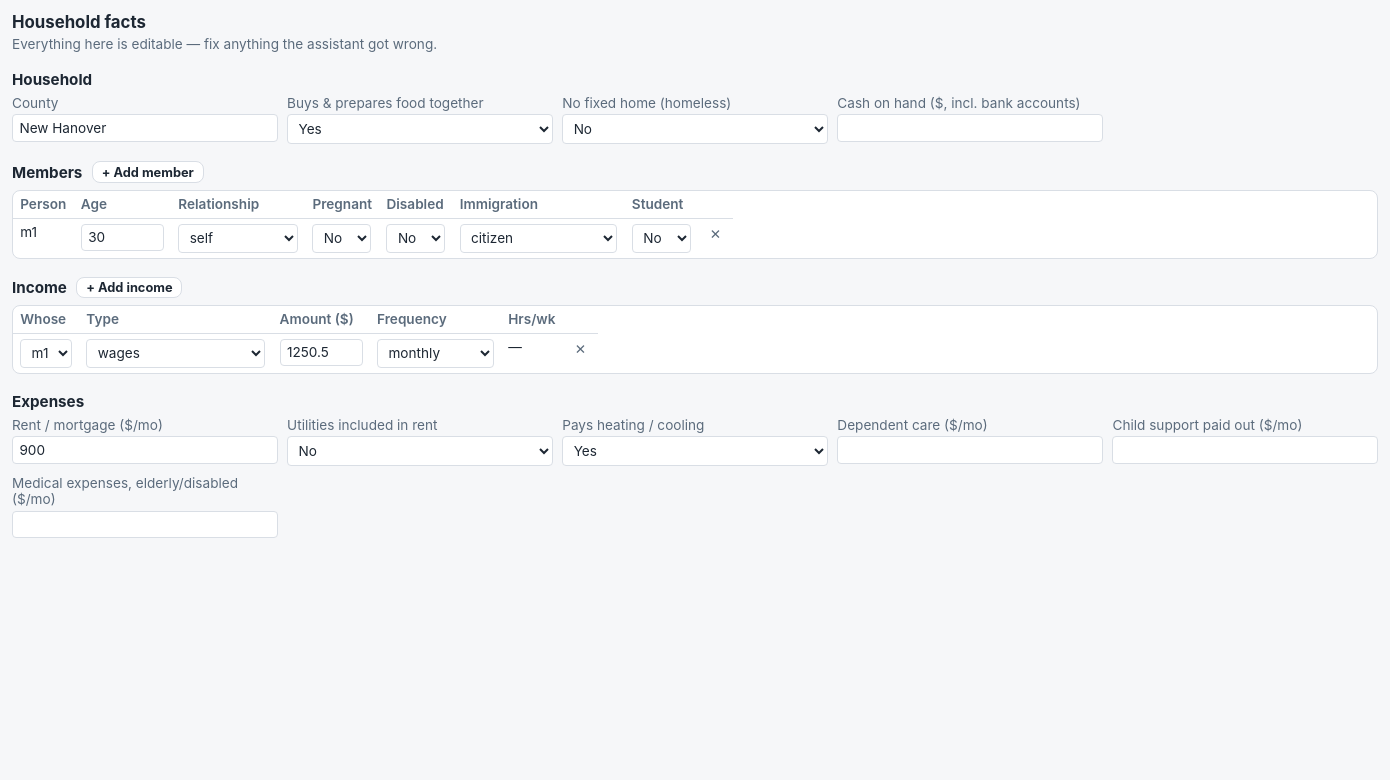
Test: FactsPanel › renders a 422 validation error inline at the offending field
The width and height of the screenshot is (1390, 780).
Step 1. Replace the text in the number field named "age of m1" with "999" → (122, 237), box [81, 224, 164, 251]
Wait 500 ms
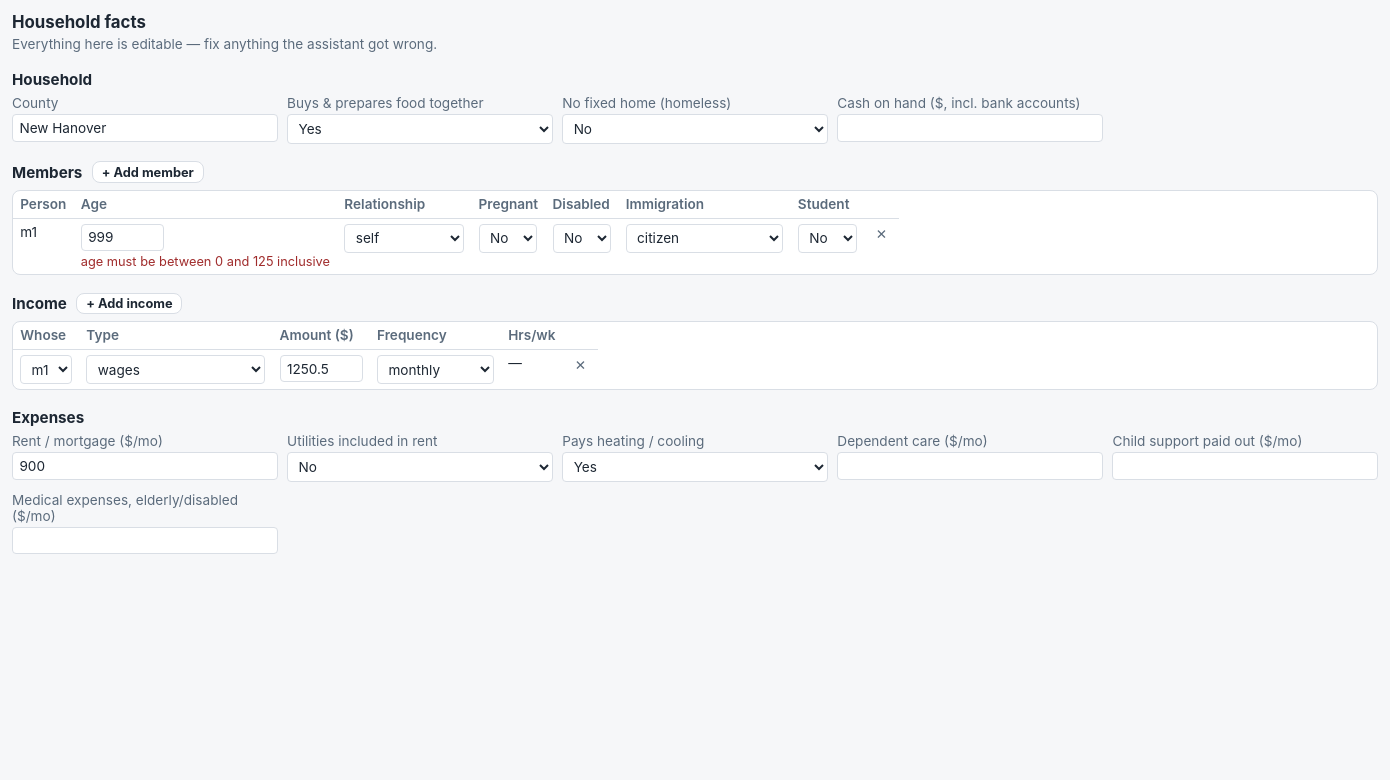
Check: the cell named "age of m1" reads "age must be between 0 and 125 inclusive", box [81, 254, 330, 269]
